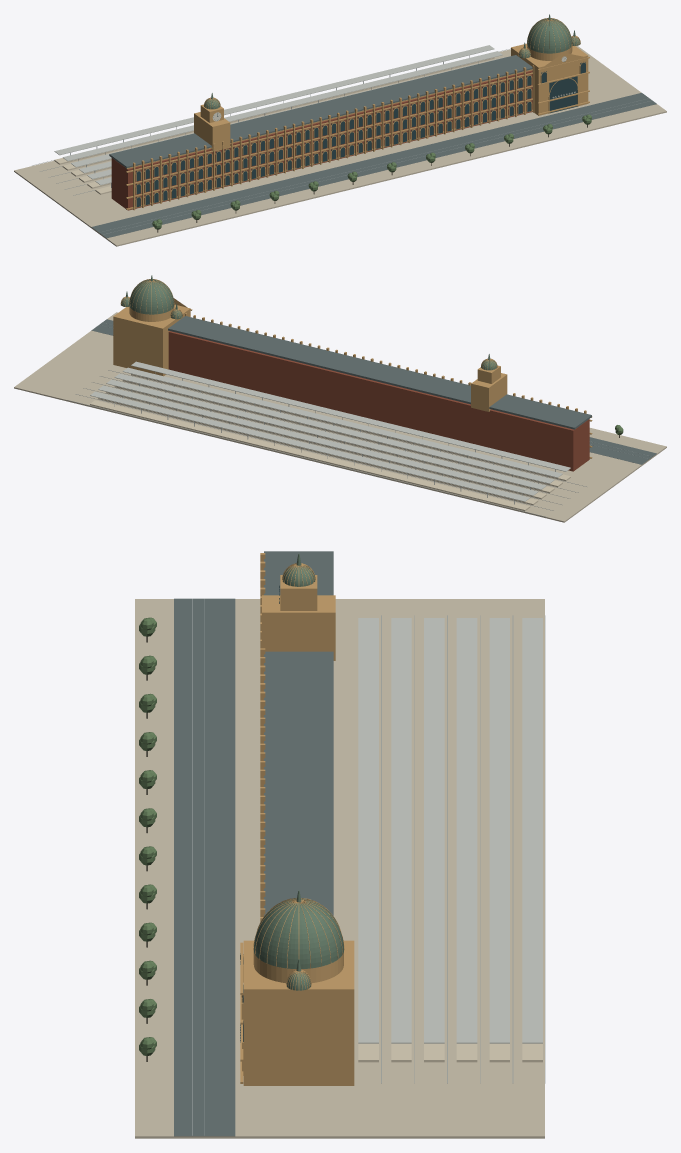
The model's file is flinders.glb.
3 views of the same model, one above another, from view 1: azimuth 30°, elevation 25°; view 2: azimuth 150°, elevation 25°; view 3: azimuth 270°, elevation 25° (orthographic). The views are drawn at different scales.
Parts seen in each view (by area): view 1: flinders_ochre, flinders_path, flinders_darkroof, flinders_glass, flinders_brick, flinders_roof, flinders_copper, flinders_lightstone, flinders_leaf, flinders_steel; view 2: flinders_brick, flinders_roof, flinders_path, flinders_darkroof, flinders_lightstone, flinders_ochre, flinders_steel, flinders_copper; view 3: flinders_path, flinders_roof, flinders_darkroof, flinders_ochre, flinders_copper, flinders_steel, flinders_leaf, flinders_lightstone.
Part boxes in pixels (x1,y1,x2,y2): flinders_ochre: [126, 18, 589, 210]; flinders_path: [14, 46, 666, 246]; flinders_darkroof: [91, 55, 656, 238]; flinders_glass: [136, 58, 585, 207]; flinders_brick: [111, 70, 532, 210]; flinders_roof: [54, 45, 505, 185]; flinders_copper: [204, 14, 580, 109]; flinders_lightstone: [54, 57, 494, 194]; flinders_leaf: [152, 114, 591, 229]; flinders_steel: [32, 48, 651, 234]; flinders_brick: [168, 331, 589, 471]; flinders_roof: [90, 361, 570, 501]; flinders_path: [14, 312, 666, 522]; flinders_darkroof: [91, 316, 656, 464]; flinders_lightstone: [90, 374, 570, 511]; flinders_ochre: [113, 279, 592, 458]; flinders_steel: [67, 322, 652, 516]; flinders_copper: [121, 275, 497, 370]; flinders_path: [135, 599, 544, 1138]; flinders_roof: [358, 618, 542, 1043]; flinders_darkroof: [174, 551, 333, 1136]; flinders_ochre: [240, 553, 354, 1085]; flinders_copper: [254, 553, 343, 990]; flinders_steel: [192, 598, 545, 1135]; flinders_leaf: [139, 617, 156, 1055]; flinders_lightstone: [358, 1043, 542, 1062].
Bounding box in the file's own units: 15.5 × 2.43 × 5.01.
